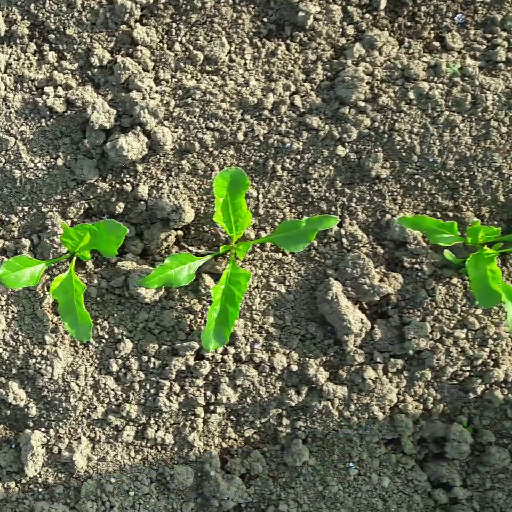sugarbeet: (135, 166, 340, 353), (1, 213, 132, 346), (394, 212, 512, 337)
weed: (445, 59, 465, 76), (458, 418, 476, 434)
